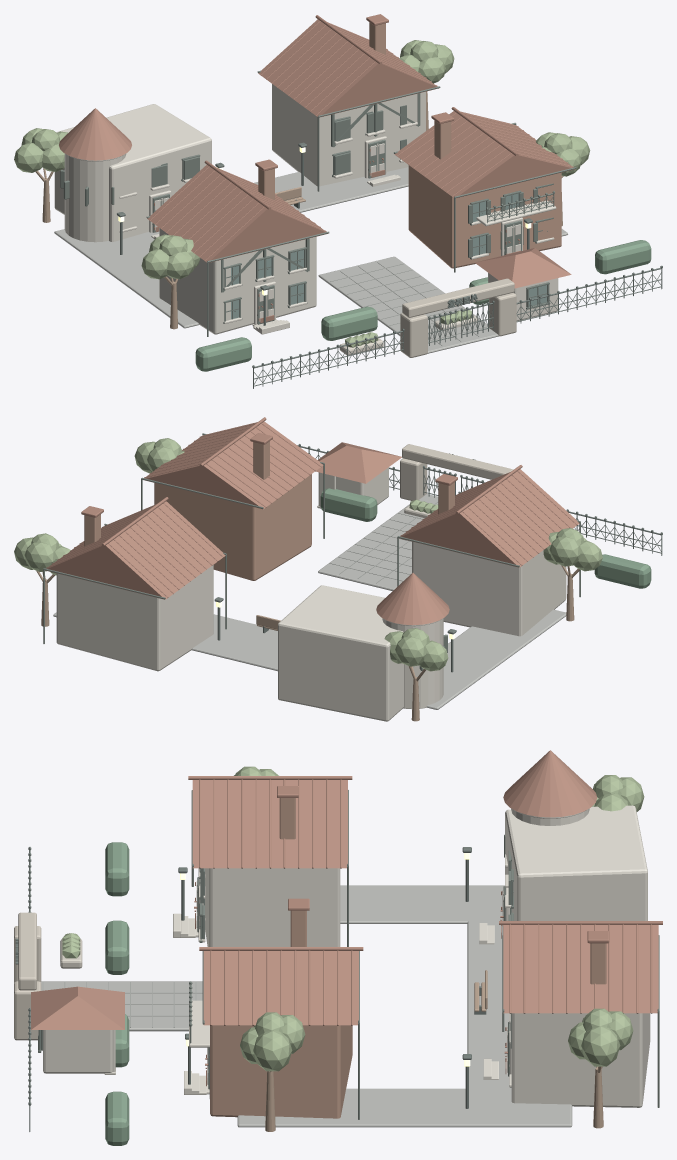
The model's file is xinhua-villas-211.glb.
The picture shows the model from 3 angles, top to bottom: view 1: azimuth 30°, elevation 25°; view 2: azimuth 150°, elevation 25°; view 3: azimuth 270°, elevation 25°; orthographic projection. The views are drawn at different scales.
Parts seen in each view (by area): view 1: xinhua-villas-211; view 2: xinhua-villas-211; view 3: xinhua-villas-211.
Part boxes in pixels (bbox=[...]): xinhua-villas-211: bbox=[14, 14, 662, 388]; xinhua-villas-211: bbox=[14, 417, 662, 721]; xinhua-villas-211: bbox=[14, 750, 662, 1145].
Bounding box in the file's own units: 30.7 × 8.19 × 29.67.
